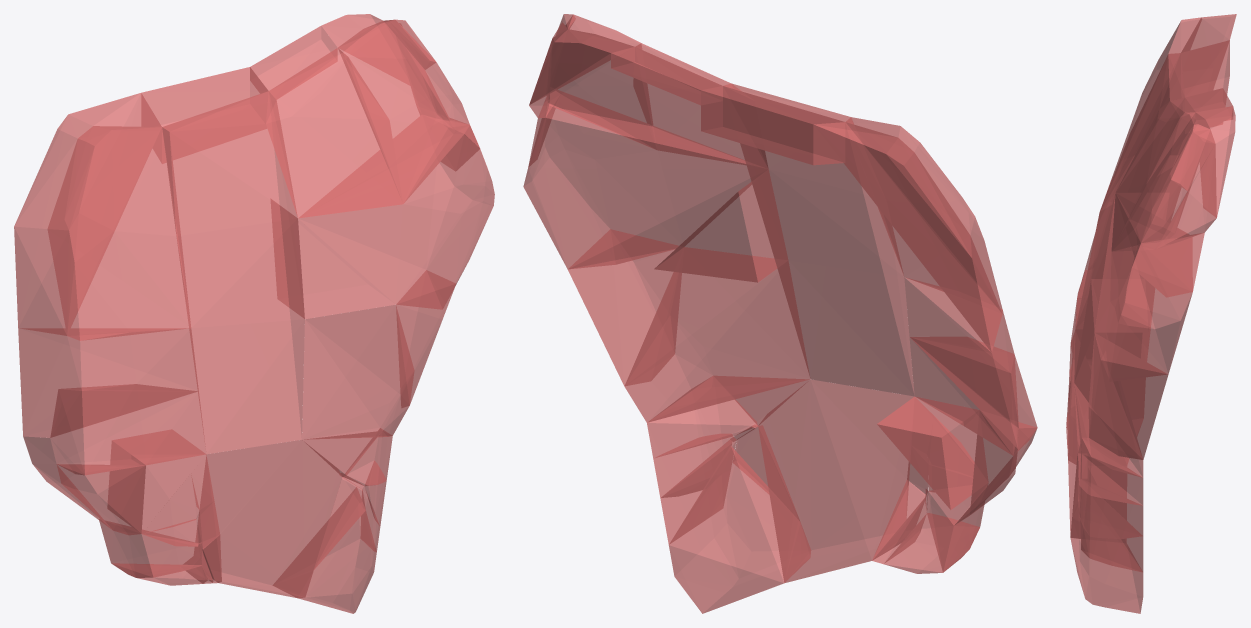
The model's file is env_excavationsite_mountainpiece02_col.fbx.
3 renders of one model, left to right at view 1: azimuth 30°, elevation 25°; view 2: azimuth 150°, elevation 25°; view 3: azimuth 270°, elevation 25°, orthographic. The views are drawn at different scales.
Visible parts, largest first — view 1: mountainpiece02_col_19, mountainpiece02_col_1, mountainpiece02_col_6, mountainpiece02_col_21, mountainpiece02_col_23, mountainpiece02_col_16, mountainpiece02_col_20, mountainpiece02_col_5, mountainpiece02_col_17, mountainpiece02_col_29, mountainpiece02_col_28, mountainpiece02_col_25 (+23 smaller); view 2: mountainpiece02_col_19, mountainpiece02_col_6, mountainpiece02_col_23, mountainpiece02_col_5, mountainpiece02_col_4, mountainpiece02_col_1, mountainpiece02_col_21, mountainpiece02_col_26, mountainpiece02_col_20, mountainpiece02_col_29, mountainpiece02_col_17, mountainpiece02_col_16 (+22 smaller); view 3: mountainpiece02_col_6, mountainpiece02_col_19, mountainpiece02_col_26, mountainpiece02_col_5, mountainpiece02_col_17, mountainpiece02_col_25, mountainpiece02_col_4, mountainpiece02_col_16, mountainpiece02_col_23, mountainpiece02_col_12, mountainpiece02_col_21, mountainpiece02_col_14 (+15 smaller).
Part boxes in pixels (left/top/right/bottom): mountainpiece02_col_19: left=162, top=91, right=304, bottom=454; mountainpiece02_col_1: left=47, top=126, right=191, bottom=340; mountainpiece02_col_6: left=298, top=115, right=494, bottom=309; mountainpiece02_col_21: left=14, top=93, right=161, bottom=335; mountainpiece02_col_23: left=194, top=439, right=342, bottom=598; mountainpiece02_col_16: left=266, top=48, right=402, bottom=218; mountainpiece02_col_20: left=18, top=328, right=198, bottom=437; mountainpiece02_col_5: left=302, top=304, right=414, bottom=439; mountainpiece02_col_17: left=338, top=19, right=469, bottom=203; mountainpiece02_col_29: left=50, top=384, right=206, bottom=475; mountainpiece02_col_28: left=141, top=67, right=268, bottom=163; mountainpiece02_col_25: left=271, top=199, right=395, bottom=319; mountainpiece02_col_19: left=723, top=83, right=914, bottom=396; mountainpiece02_col_6: left=523, top=90, right=767, bottom=269; mountainpiece02_col_23: left=758, top=379, right=914, bottom=583; mountainpiece02_col_5: left=624, top=247, right=810, bottom=422; mountainpiece02_col_4: left=668, top=445, right=810, bottom=613; mountainpiece02_col_1: left=846, top=117, right=1002, bottom=313; mountainpiece02_col_21: left=813, top=122, right=1002, bottom=352; mountainpiece02_col_26: left=567, top=229, right=683, bottom=385; mountainpiece02_col_20: left=904, top=277, right=1018, bottom=448; mountainpiece02_col_29: left=909, top=337, right=1037, bottom=455; mountainpiece02_col_17: left=547, top=14, right=656, bottom=149; mountainpiece02_col_16: left=633, top=43, right=767, bottom=168; mountainpiece02_col_6: left=1094, top=193, right=1192, bottom=381; mountainpiece02_col_19: left=1074, top=53, right=1184, bottom=381; mountainpiece02_col_26: left=1088, top=333, right=1168, bottom=459; mountainpiece02_col_5: left=1074, top=280, right=1143, bottom=477; mountainpiece02_col_17: left=1112, top=112, right=1209, bottom=251; mountainpiece02_col_25: left=1091, top=193, right=1168, bottom=331; mountainpiece02_col_4: left=1070, top=482, right=1143, bottom=613; mountainpiece02_col_16: left=1111, top=97, right=1195, bottom=250; mountainpiece02_col_23: left=1068, top=333, right=1126, bottom=539; mountainpiece02_col_12: left=1080, top=488, right=1143, bottom=572; mountainpiece02_col_21: left=1163, top=14, right=1236, bottom=154; mountainpiece02_col_14: left=1132, top=232, right=1204, bottom=297.
Size of the model in its own units: 582 by 669 by 194.
